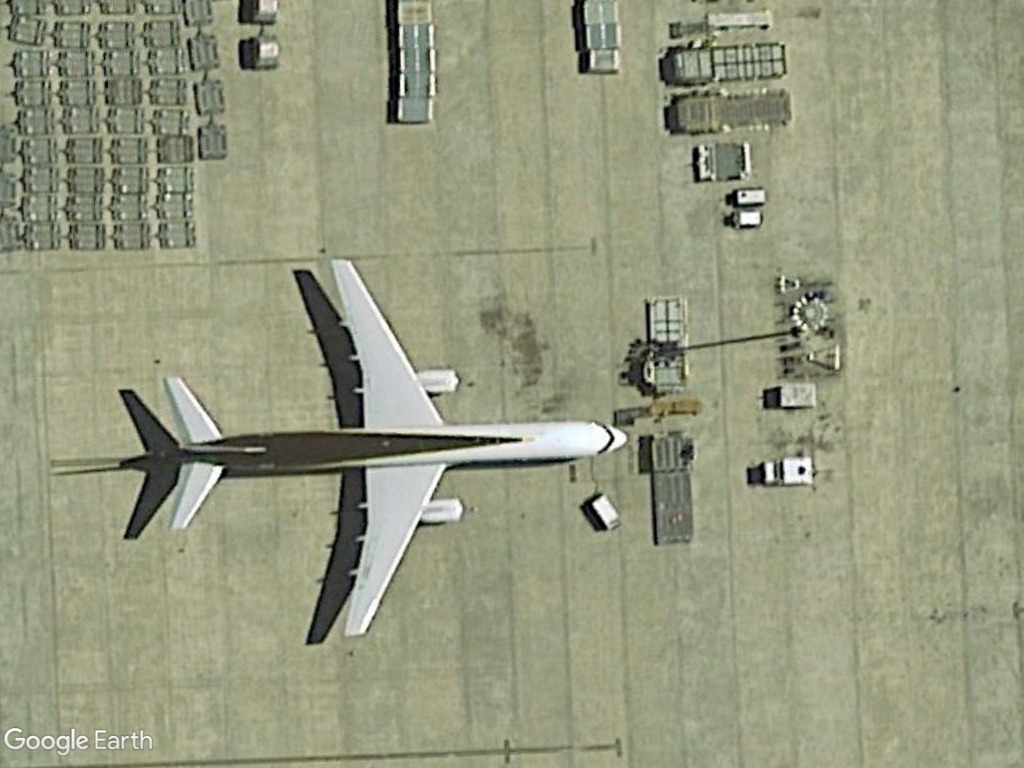airliner: (164, 258, 633, 645)
